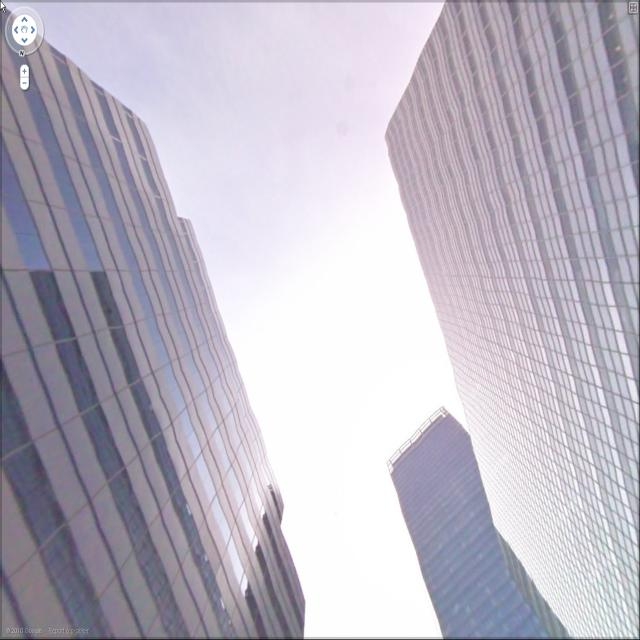b_1: (1, 2, 320, 630), (384, 4, 640, 559), (379, 422, 540, 640)
